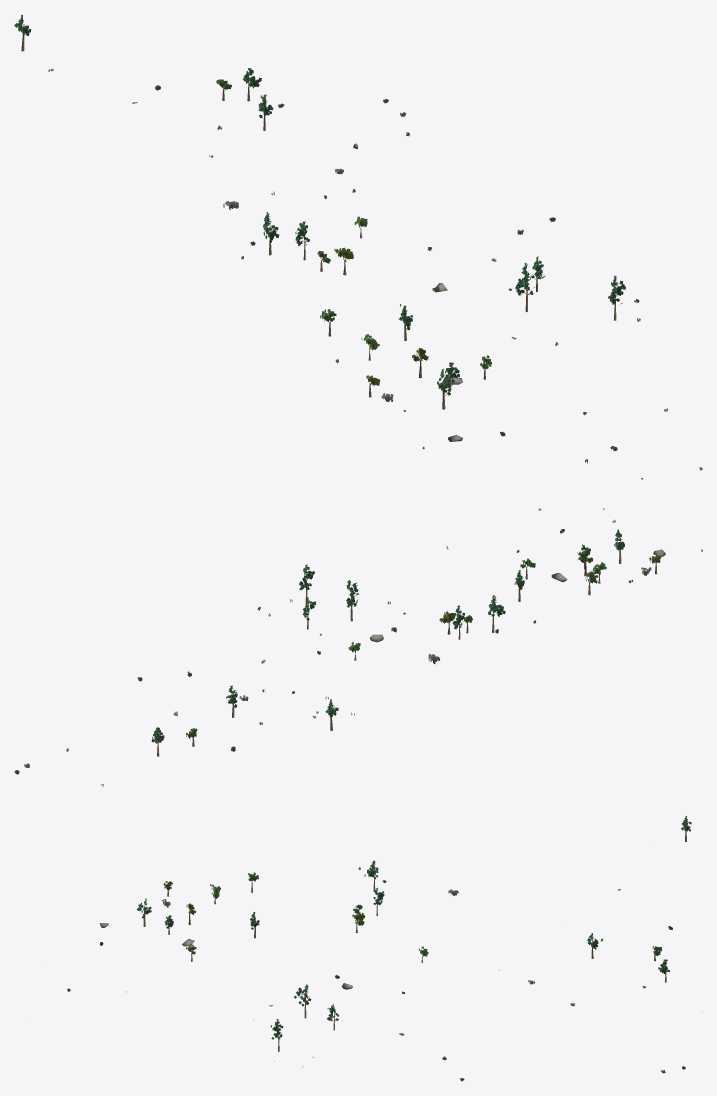
Rendered from arch_land_scatter_c21_19.glb.
The picture shows the model from 3 angles, top to bottom: view 1: azimuth 30°, elevation 25°; view 2: azimuth 150°, elevation 25°; view 3: azimuth 270°, elevation 25°; orthographic projection. The views are drawn at different scales.
Visible parts, largest first — view 1: arch_land_scatter_c21_19; view 2: arch_land_scatter_c21_19; view 3: arch_land_scatter_c21_19.
Part boxes in pixels (box(x1,y1,x2,y2)): arch_land_scatter_c21_19: box(14, 14, 702, 479); arch_land_scatter_c21_19: box(14, 508, 702, 786); arch_land_scatter_c21_19: box(67, 816, 702, 1081).
Bounding box in the file's own units: 116 × 52.35 × 244.
